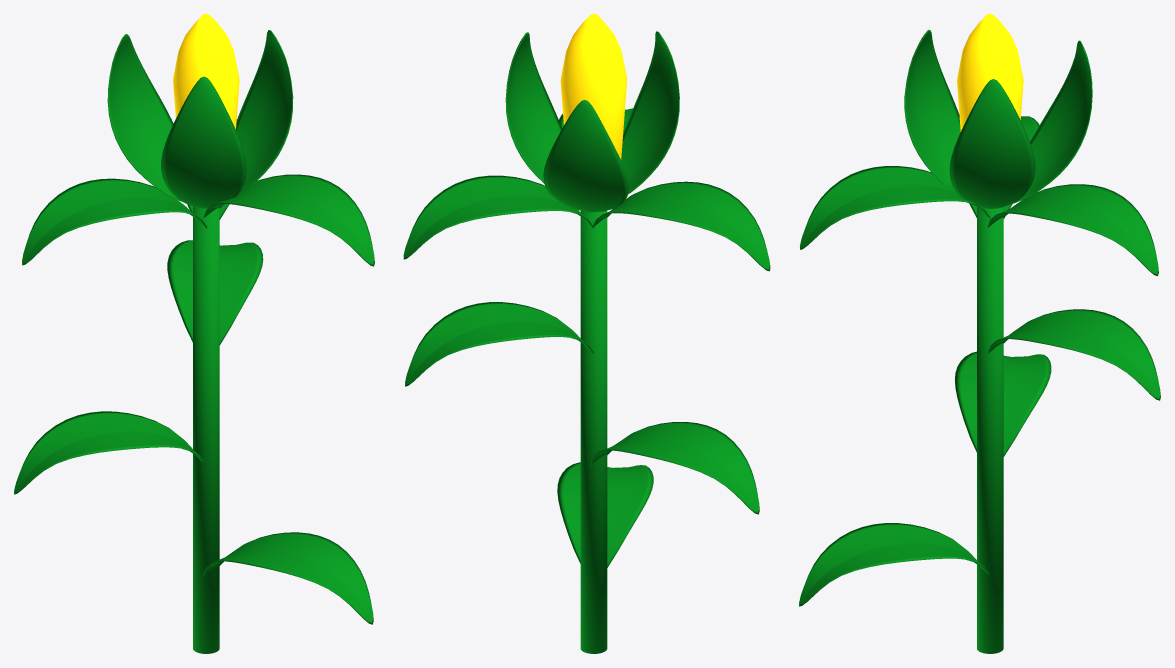
The model's file is CornPlant2.fbx.
3 views of the same model, side by side, from view 1: azimuth 30°, elevation 25°; view 2: azimuth 150°, elevation 25°; view 3: azimuth 270°, elevation 25° (orthographic).
Visible parts, largest first — view 1: CornPlant2; view 2: CornPlant2; view 3: CornPlant2.
Part boxes in pixels (<box>): CornPlant2: <box>14,14,374,653</box>; CornPlant2: <box>403,14,770,653</box>; CornPlant2: <box>799,14,1160,653</box>.
Size of the model in its own units: 1.82 by 1.97 by 3.8.
